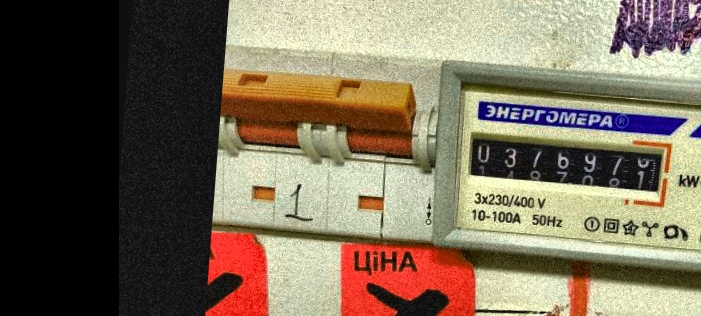0: (475, 140, 492, 163)
1: (634, 167, 645, 190)
3: (503, 145, 517, 167)
6: (555, 145, 572, 169)
7: (529, 144, 545, 168), (609, 150, 624, 174)
9: (582, 149, 597, 172)
screen: (457, 122, 675, 210)
